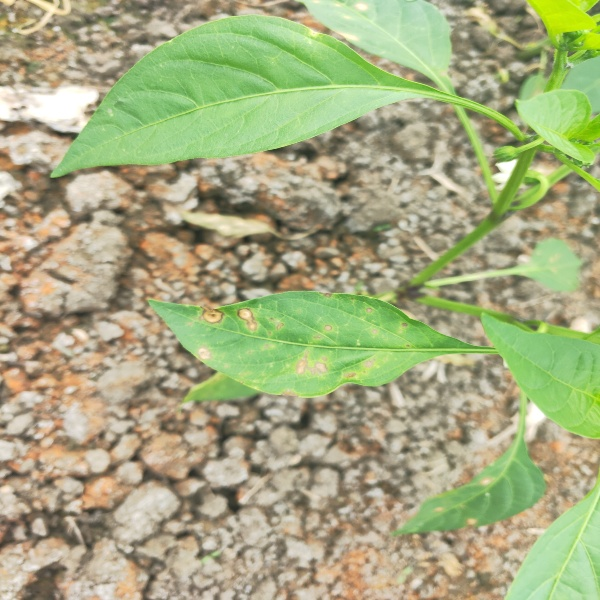Anthrax: (146, 290, 429, 399), (388, 451, 550, 535), (297, 1, 452, 85)
